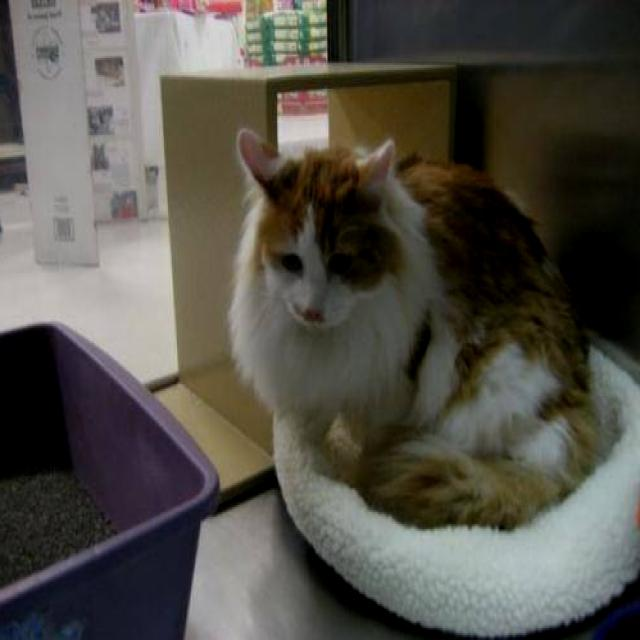Kucing: (194, 61, 640, 580)
